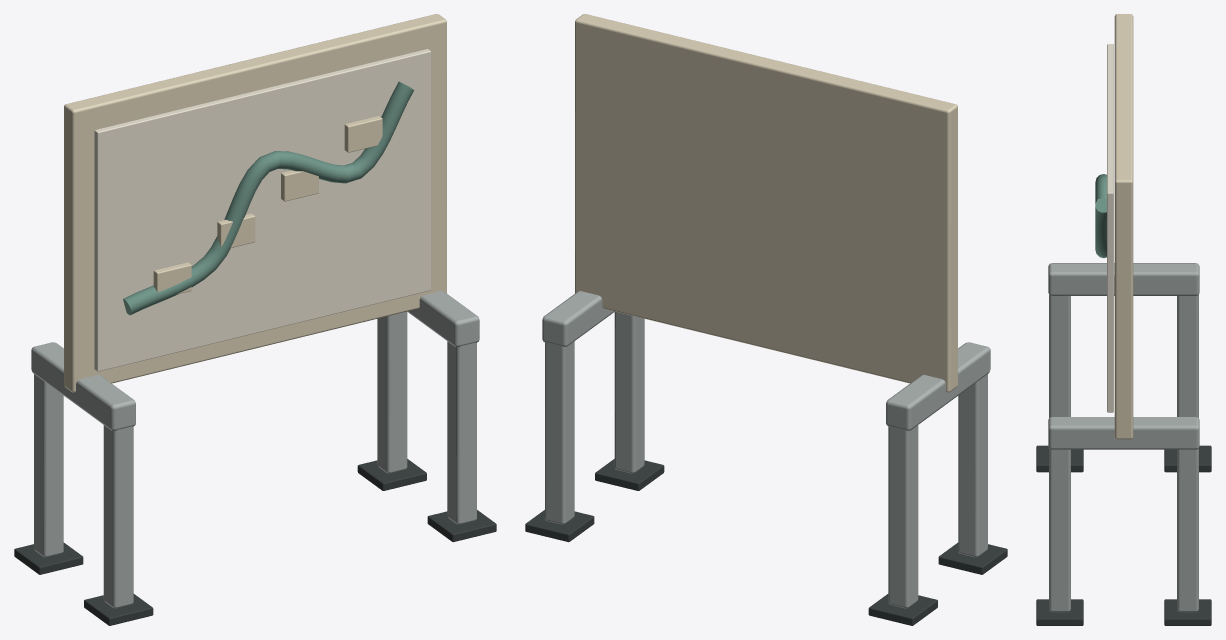
File: canal-boats-and-lock-operations-canal-boats-and-lock-o-ec0f723e__31662.glb
3 views of the same model, side by side, from view 1: azimuth 30°, elevation 25°; view 2: azimuth 150°, elevation 25°; view 3: azimuth 270°, elevation 25° (orthographic). The views are drawn at different scales.
Visible parts, largest first — view 1: canal-boats-and-lock-operations-canal-route-relief-display; view 2: canal-boats-and-lock-operations-canal-route-relief-display; view 3: canal-boats-and-lock-operations-canal-route-relief-display.
Part boxes in pixels (x1,y1,x2,y2): canal-boats-and-lock-operations-canal-route-relief-display: [14, 14, 496, 625]; canal-boats-and-lock-operations-canal-route-relief-display: [525, 14, 1007, 625]; canal-boats-and-lock-operations-canal-route-relief-display: [1036, 14, 1211, 625].
Bounding box in the file's own units: 1.22 × 1.45 × 0.52.
